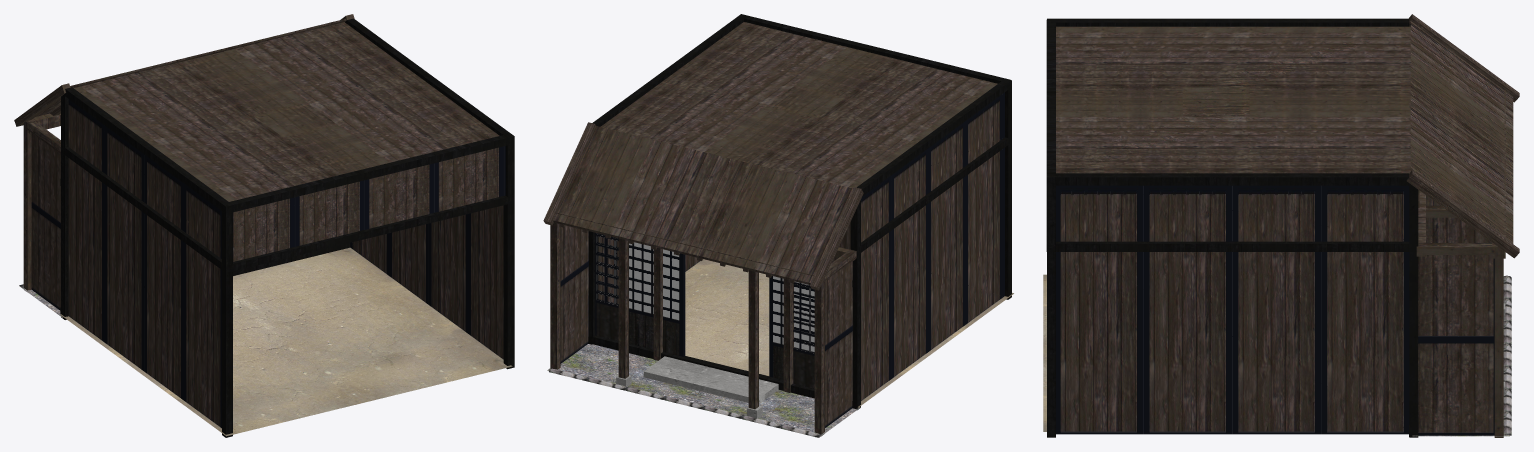
File: heya2.fbx
3 views of the same model, side by side, from view 1: azimuth 30°, elevation 25°; view 2: azimuth 150°, elevation 25°; view 3: azimuth 270°, elevation 25° (orthographic). The views are drawn at different scales.
Visible parts, largest first — view 1: genkansuteeji; view 2: genkansuteeji; view 3: genkansuteeji.
Part boxes in pixels (bbox=[...]): genkansuteeji: bbox=[14, 14, 514, 437]; genkansuteeji: bbox=[543, 14, 1013, 437]; genkansuteeji: bbox=[1043, 14, 1519, 437].
Bounding box in the file's own units: 497 × 383 × 625.
18 materials, 18 textured.
